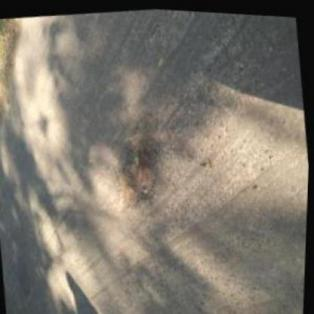Hueco: (107, 104, 174, 210)
